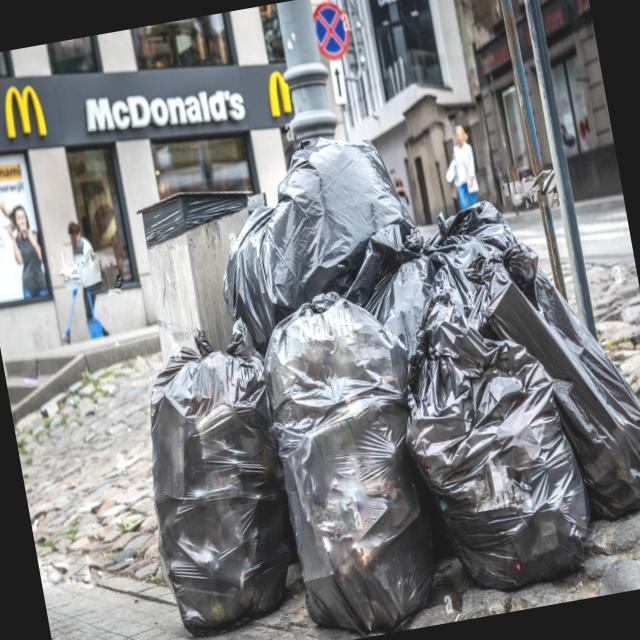garbage: (69, 93, 640, 640)
